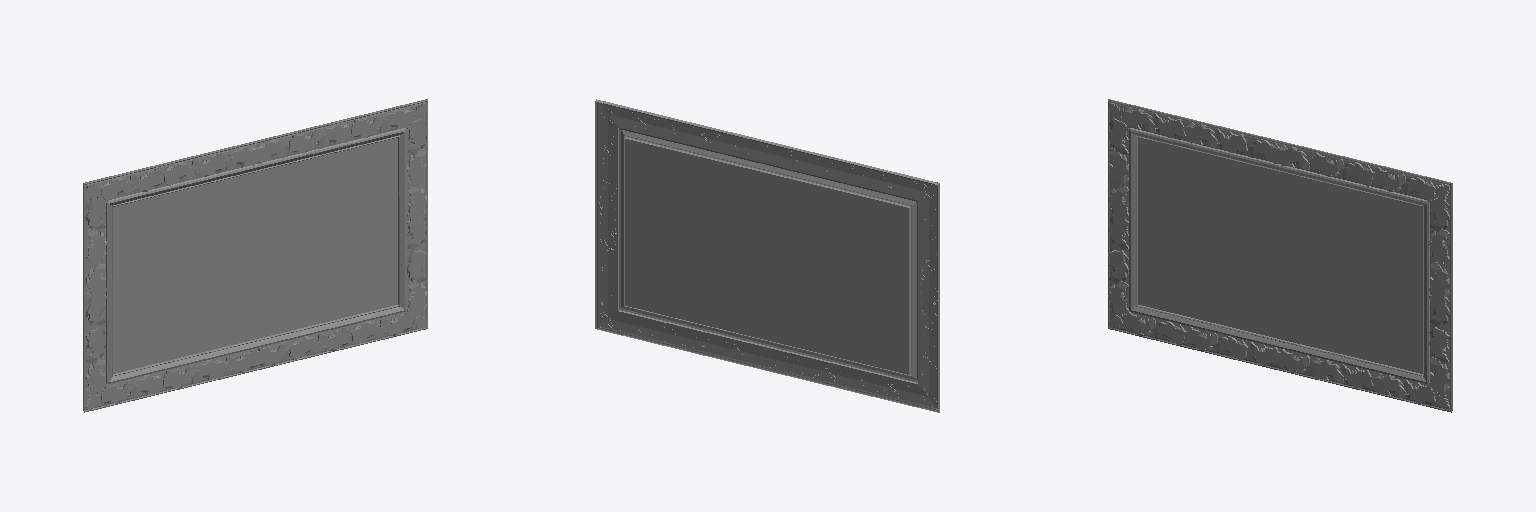
Rendered from Masterpiece.obj.
The picture shows the model from 3 angles: view 1: azimuth 30°, elevation 25°; view 2: azimuth 150°, elevation 25°; view 3: azimuth 330°, elevation 25°; orthographic projection.
Parts seen in each view (by area): view 1: Masterpiece; view 2: Masterpiece; view 3: Masterpiece.
Part boxes in pixels (x1,y1,x2,y2): Masterpiece: (83,99,427,412); Masterpiece: (595,99,939,412); Masterpiece: (1108,99,1452,412).
Size of the model in its own units: 1.18 by 0.7511 by 0.0168.